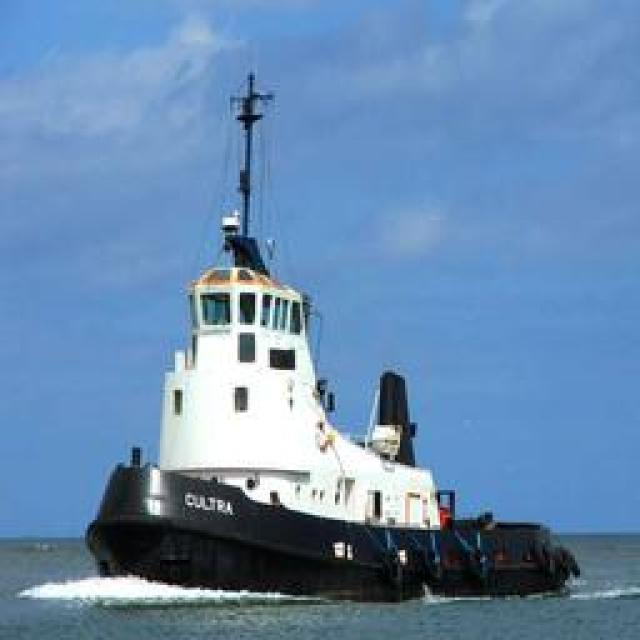ship2: (85, 79, 580, 605)
